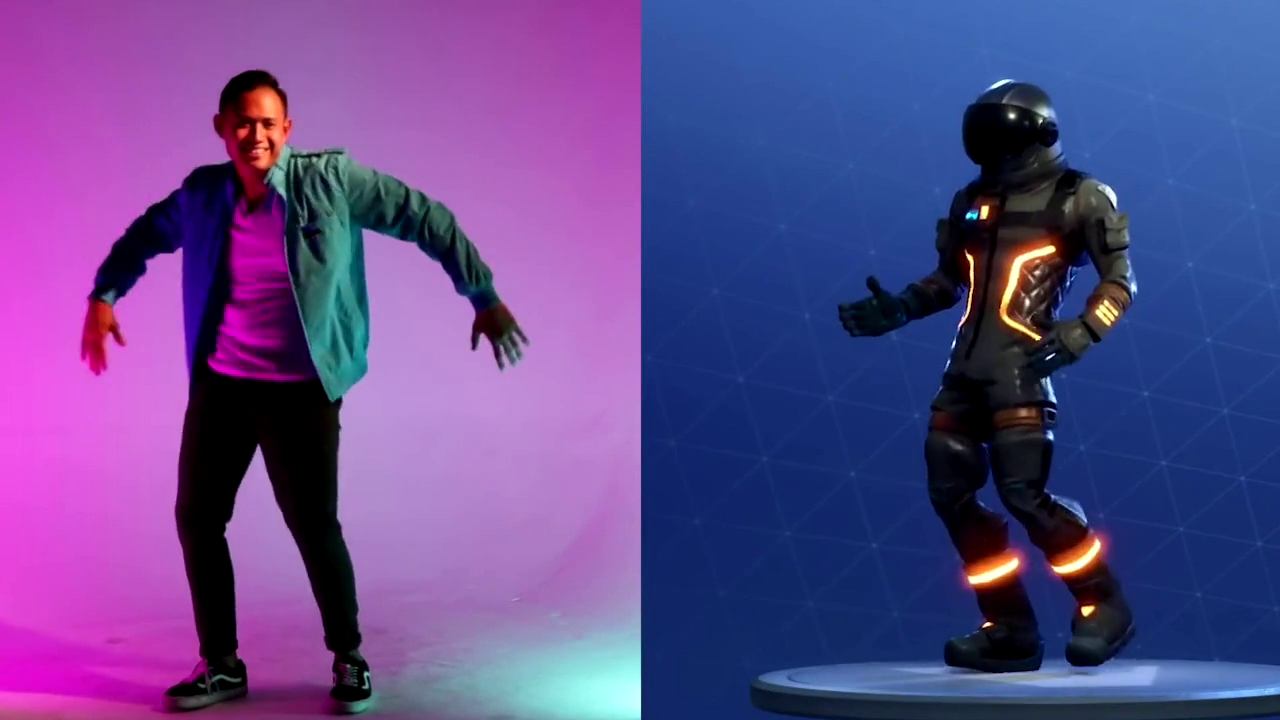Head: (202, 64, 307, 173)
Hip: (157, 354, 352, 467)
LeftAnkle: (307, 624, 410, 712)
LeftElbow: (375, 180, 480, 261)
LeftKnee: (263, 490, 359, 564)
LeftShoulder: (287, 145, 390, 246)
LeftWrist: (437, 282, 550, 378)
RightAnkle: (148, 612, 273, 713)
RightElbow: (112, 182, 181, 272)
RightKnee: (147, 478, 248, 557)
RightShoulder: (143, 142, 239, 221)
RightWrist: (66, 287, 134, 370)
Torso: (181, 177, 355, 401)
